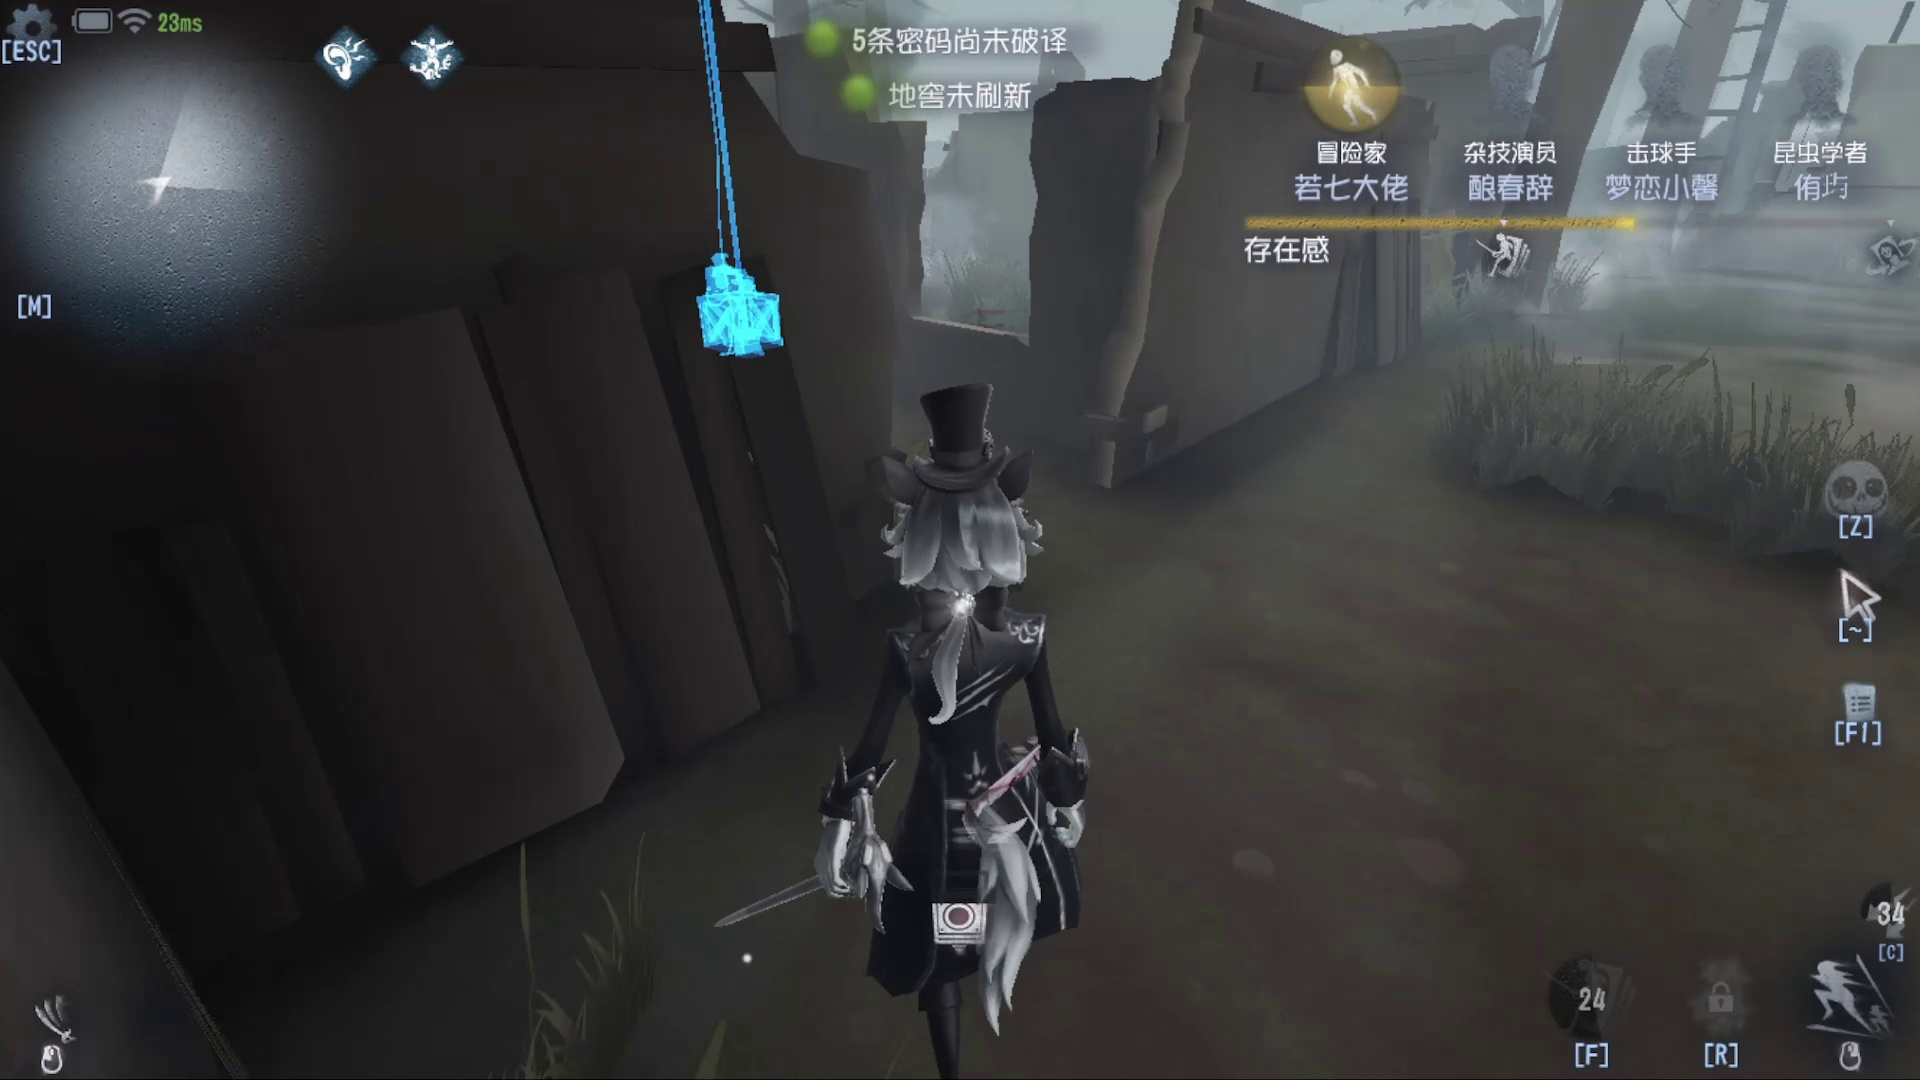密码机: (667, 8, 815, 377)
